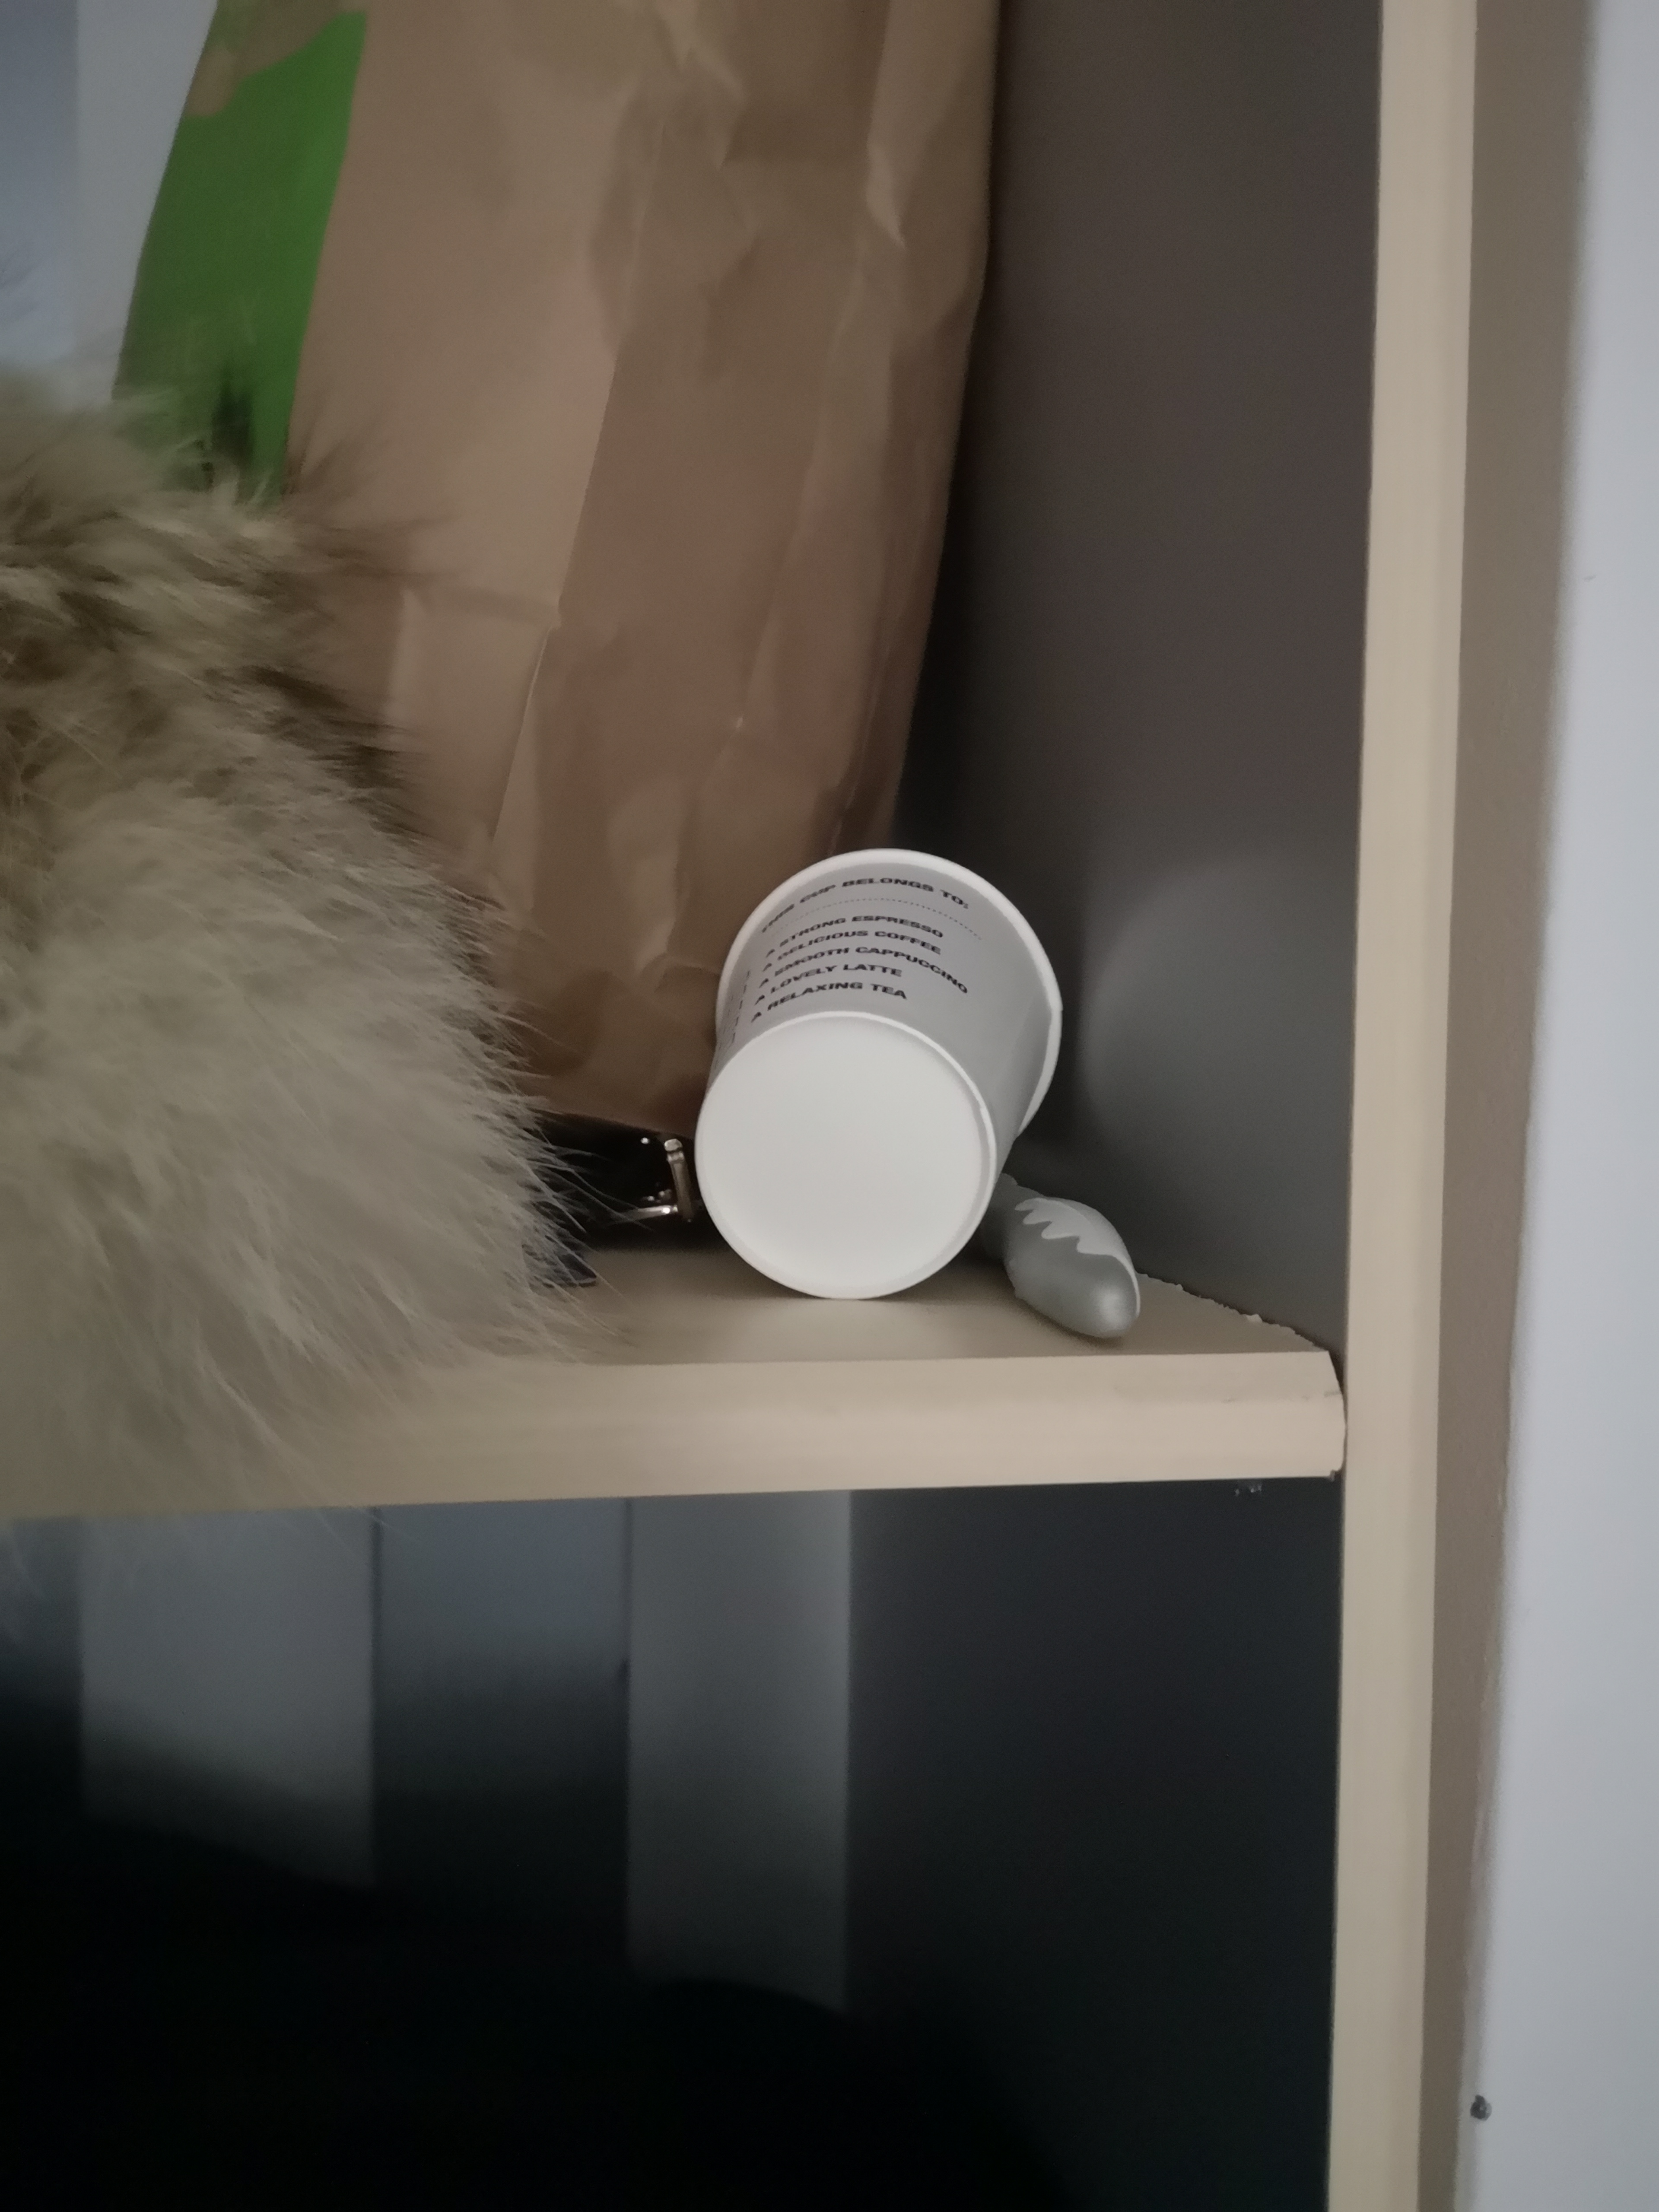cup: (678, 820, 1084, 1320)
